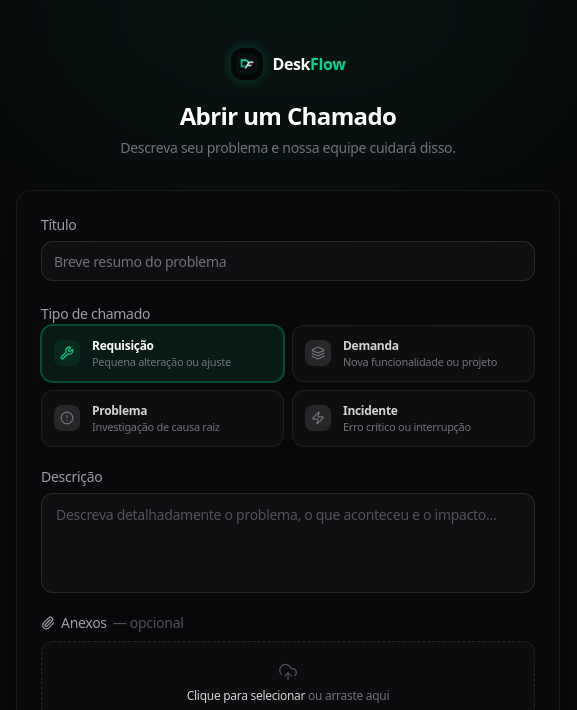
Test: Portal › shows priority selector when INCIDENT type is selected
This screenshot has width=577, height=710.
Step 1. Click the text "Incidente" → (370, 410), box top-left (343, 402), bottom-right (398, 419)
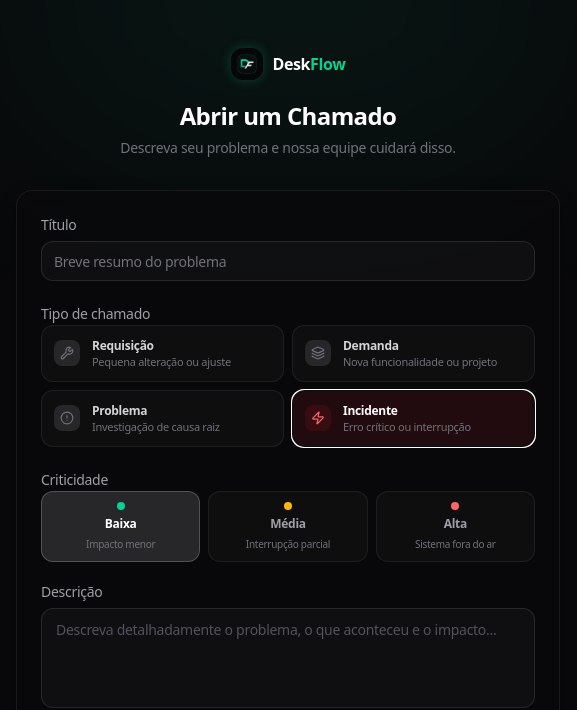
Expected: the text "Criticidade" is shown, top-left (41, 470), bottom-right (108, 488)
Expected: the text "Baixa" is shown, top-left (105, 516), bottom-right (136, 532)
Expected: the text "Média" is shown, top-left (270, 516), bottom-right (306, 532)
